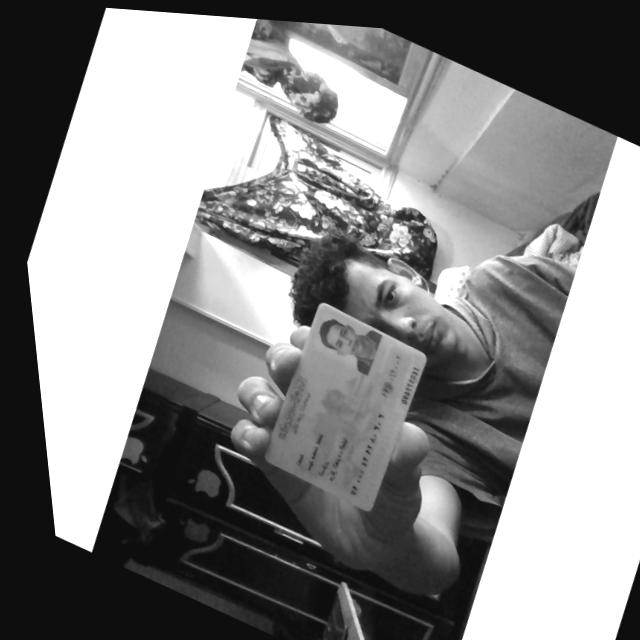front: (263, 302, 424, 510)
